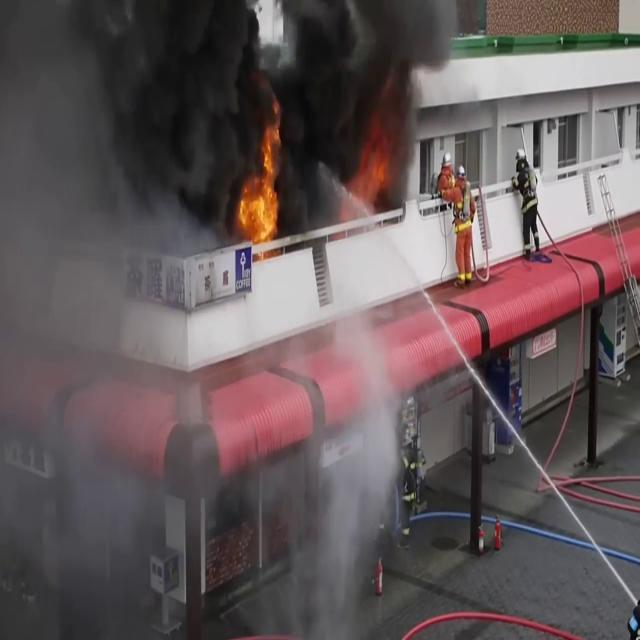Fire: (237, 112, 286, 251)
Smoke: (14, 0, 453, 223), (0, 1, 170, 576), (279, 298, 443, 634)
